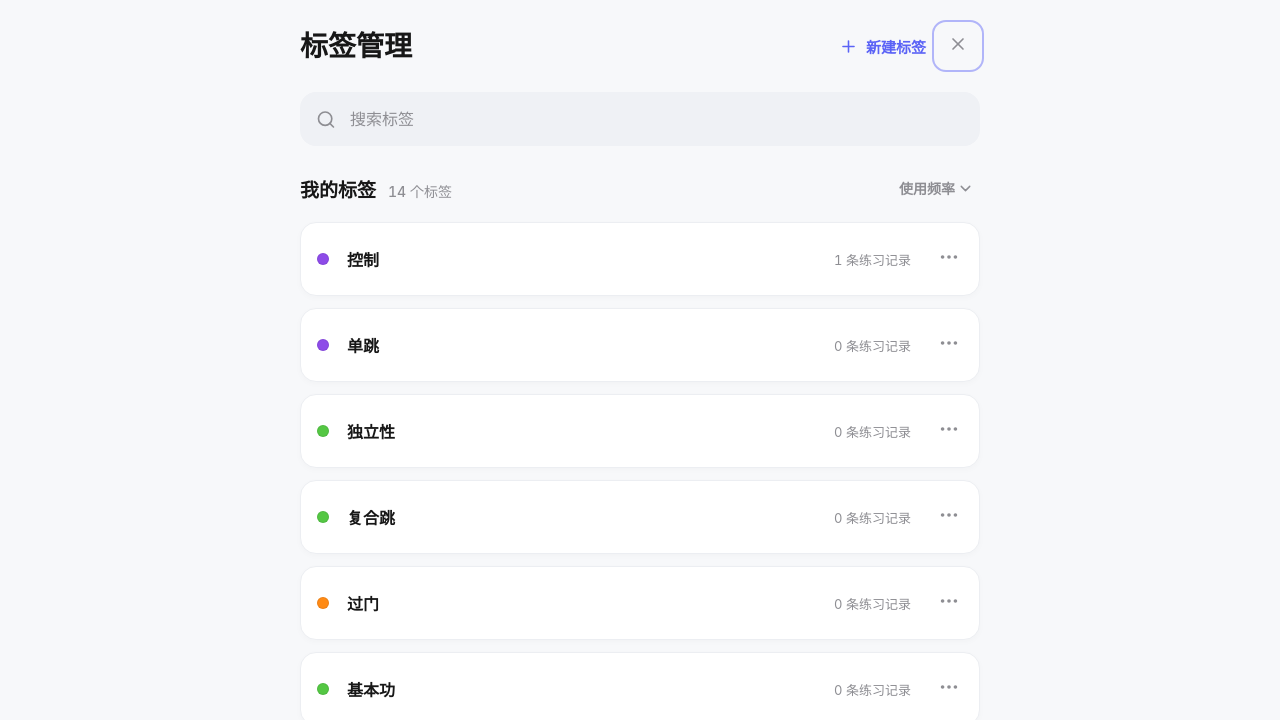
ClassificationManagementSheet › shows the selected tag usage statistics
Expected: the text "控制" is shown, [347,250,379,270]
Step 1. Click the button named "更多控制操作" → (949, 259), box [927,237,971,281]
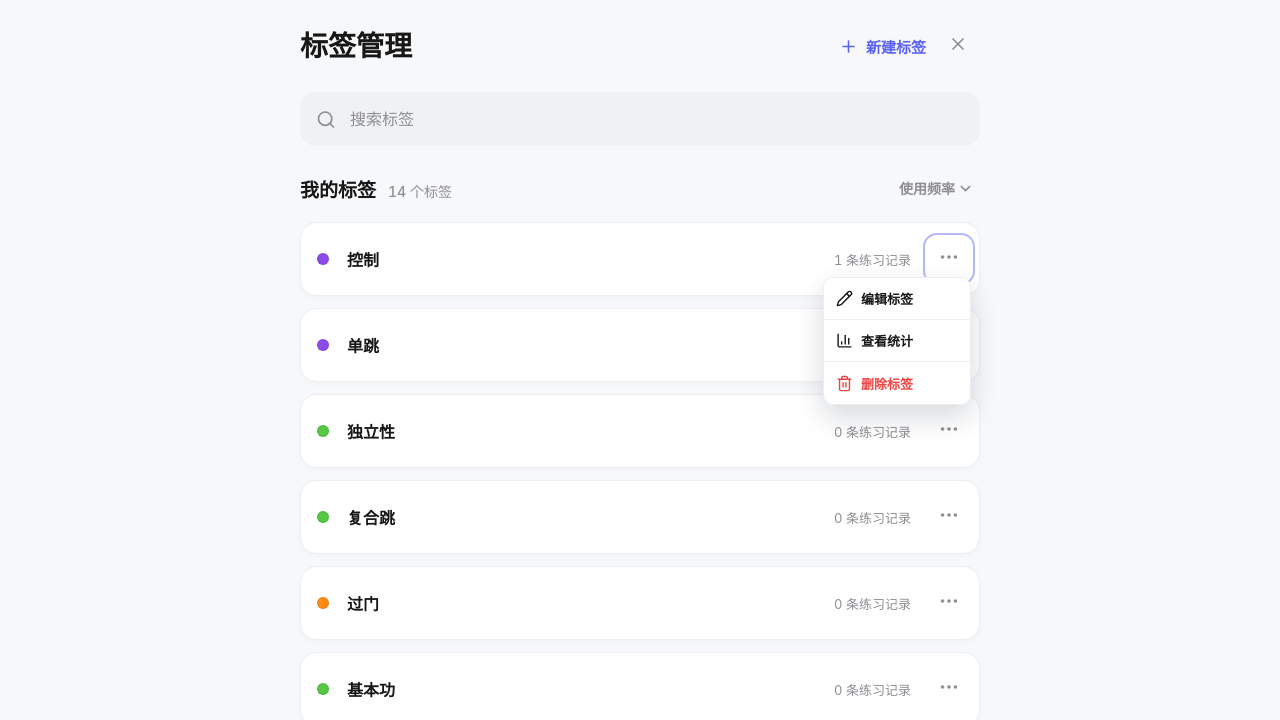
Step 2. Click the menu item "查看统计" → (897, 341), box [824,320,970,362]
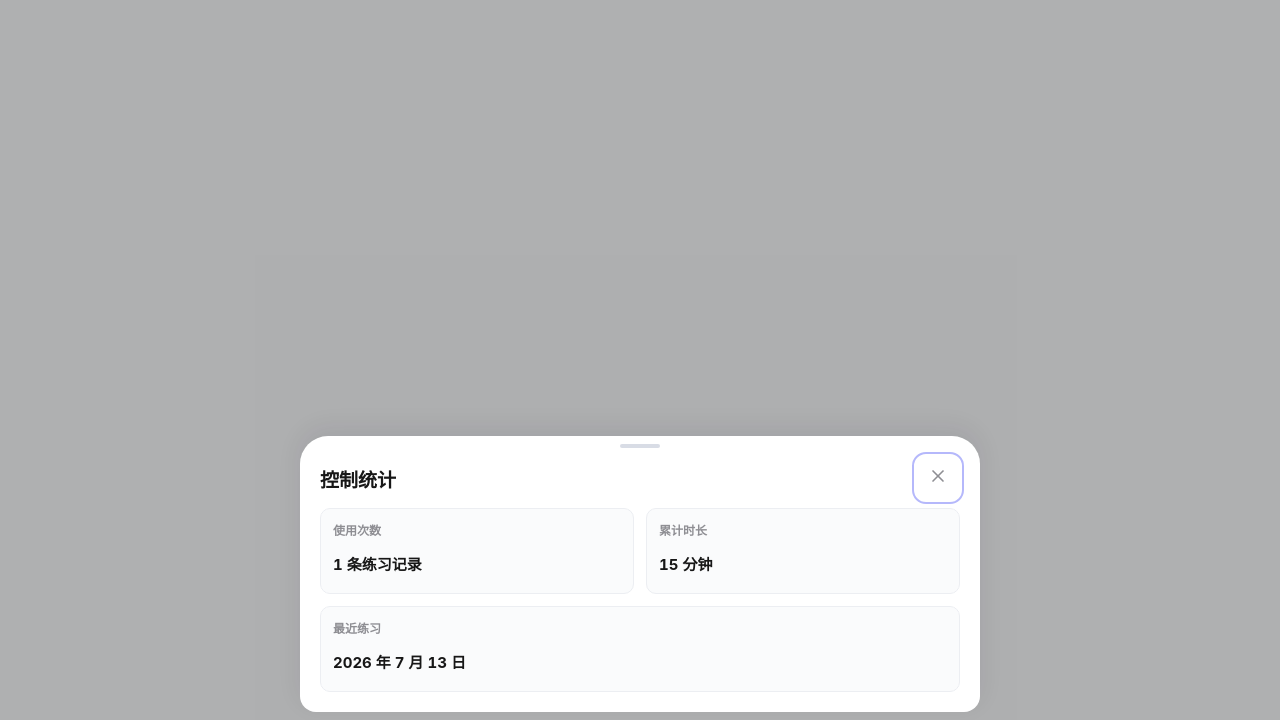
Expected: the dialog "控制统计" shows "使用次数", [333,523,381,538]
Expected: the dialog "控制统计" shows "1 条练习记录", [300,436,980,712]
Expected: the dialog "控制统计" shows "15 分钟", [659,555,712,574]
